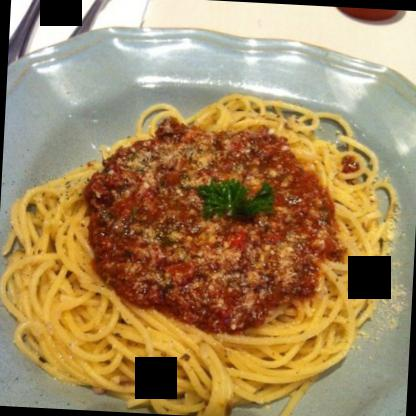pasta: (0, 77, 405, 415)
